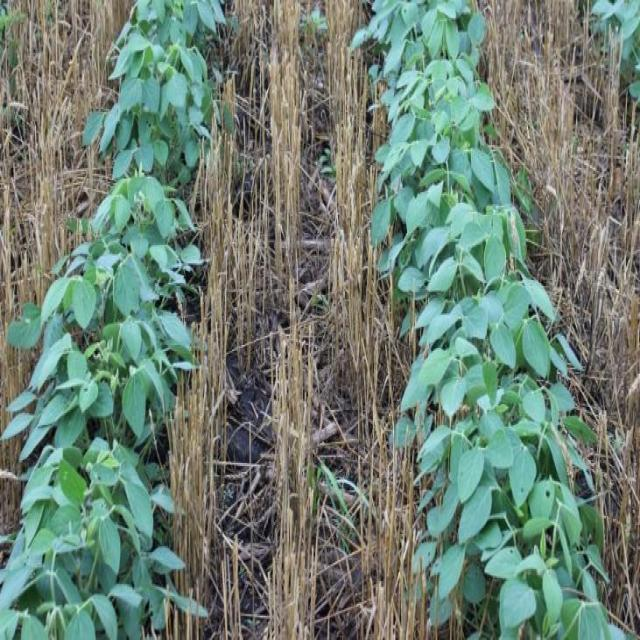row: (133, 0, 459, 640), (472, 0, 640, 640), (0, 0, 133, 498)
